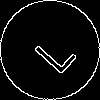L: (25, 25, 78, 76)
